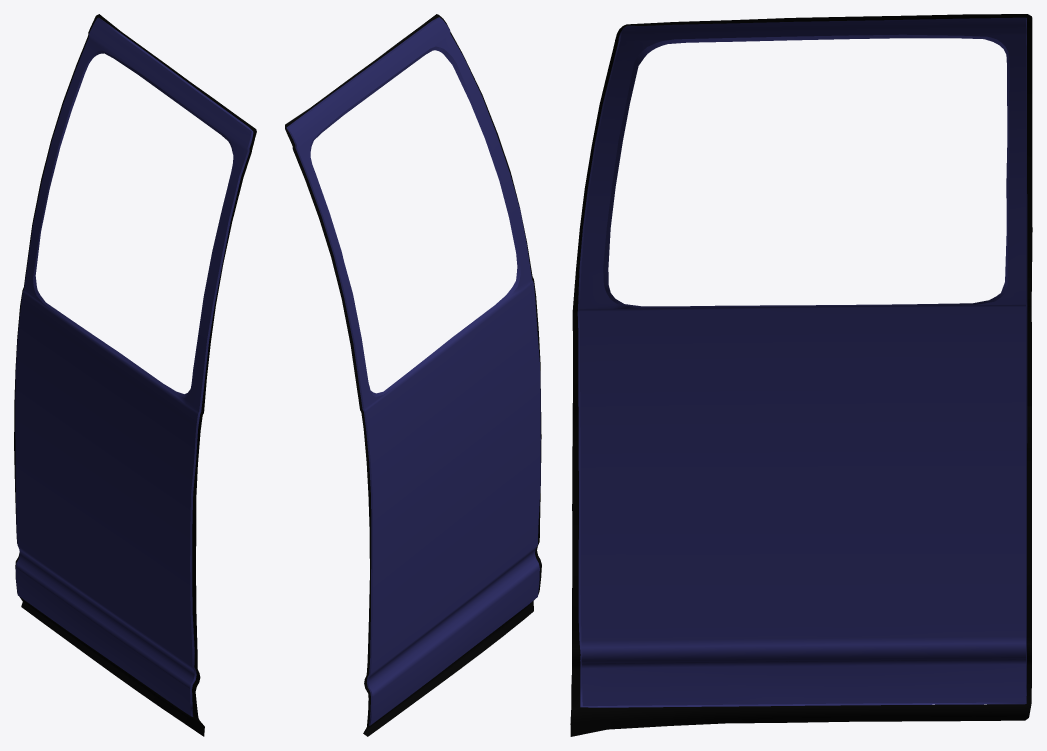
The picture shows the model from 3 angles, left to right: view 1: azimuth 30°, elevation 25°; view 2: azimuth 150°, elevation 25°; view 3: azimuth 270°, elevation 25°; orthographic projection. The views are drawn at different scales.
Visible parts, largest first — view 1: P615_5A_50CA_R_1_DaS_P615_5A_50CA_R, P615_5A_50CA_R_P615_5A_50CA_R_2_D, P615_5A_50CA_R_1_DaS_P615_5A_50CA_R_E; view 2: P615_5A_50CA_R_1_DaS_P615_5A_50CA_R, P615_5A_50CA_R_P615_5A_50CA_R_2_D, P615_5A_50CA_R_1_DaS_P615_5A_50CA_R_E; view 3: P615_5A_50CA_R_1_DaS_P615_5A_50CA_R, P615_5A_50CA_R_P615_5A_50CA_R_2_D, P615_5A_50CA_R_1_DaS_P615_5A_50CA_R_E.
Part boxes in pixels (x1,y1,x2,y2): P615_5A_50CA_R_1_DaS_P615_5A_50CA_R: [15, 18, 251, 716]; P615_5A_50CA_R_P615_5A_50CA_R_2_D: [14, 14, 256, 736]; P615_5A_50CA_R_1_DaS_P615_5A_50CA_R_E: [33, 17, 253, 716]; P615_5A_50CA_R_1_DaS_P615_5A_50CA_R: [288, 17, 540, 724]; P615_5A_50CA_R_P615_5A_50CA_R_2_D: [285, 14, 541, 736]; P615_5A_50CA_R_1_DaS_P615_5A_50CA_R_E: [286, 17, 520, 725]; P615_5A_50CA_R_1_DaS_P615_5A_50CA_R: [579, 17, 1026, 706]; P615_5A_50CA_R_P615_5A_50CA_R_2_D: [570, 14, 1032, 736]; P615_5A_50CA_R_1_DaS_P615_5A_50CA_R_E: [577, 18, 1027, 707].
Bounding box in the file's own units: 22.61 × 140 × 76.28.
